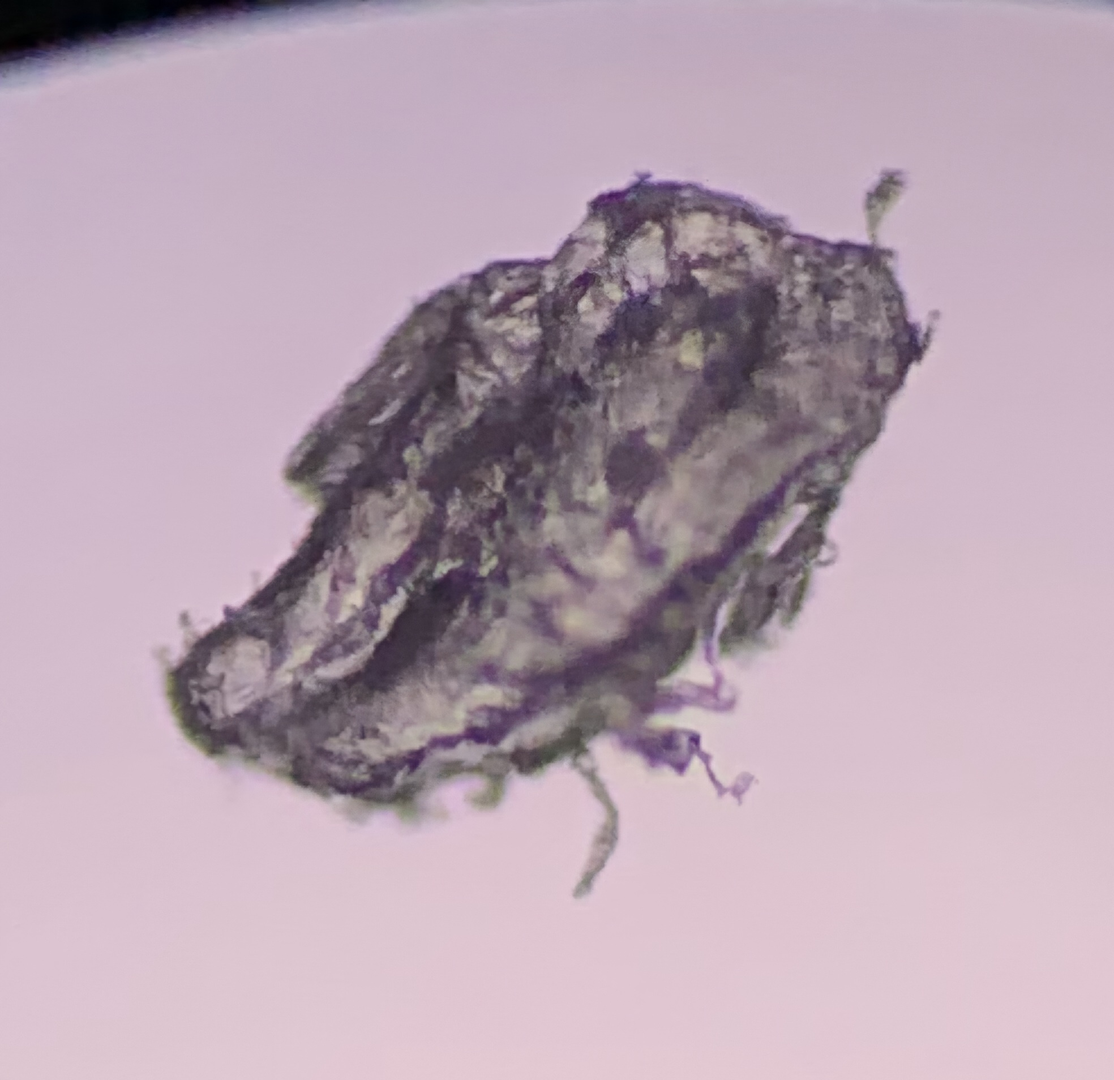microplastic: (158, 172, 945, 901)
